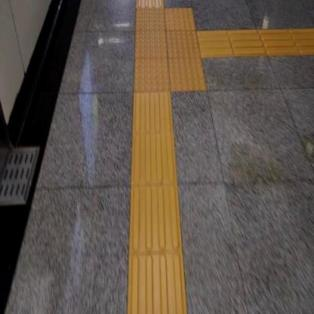Podoctatil: (128, 94, 190, 313), (125, 2, 215, 110), (202, 29, 313, 59)
